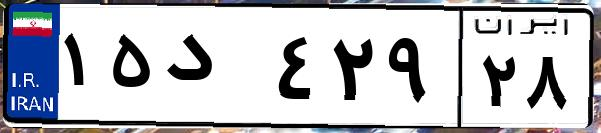1: (57, 26, 110, 100)
2: (330, 28, 385, 110), (475, 38, 525, 113)
4: (270, 28, 330, 110)
5: (110, 28, 158, 98)
8: (525, 38, 570, 115)
9: (385, 28, 445, 110)
د: (158, 20, 270, 120)
